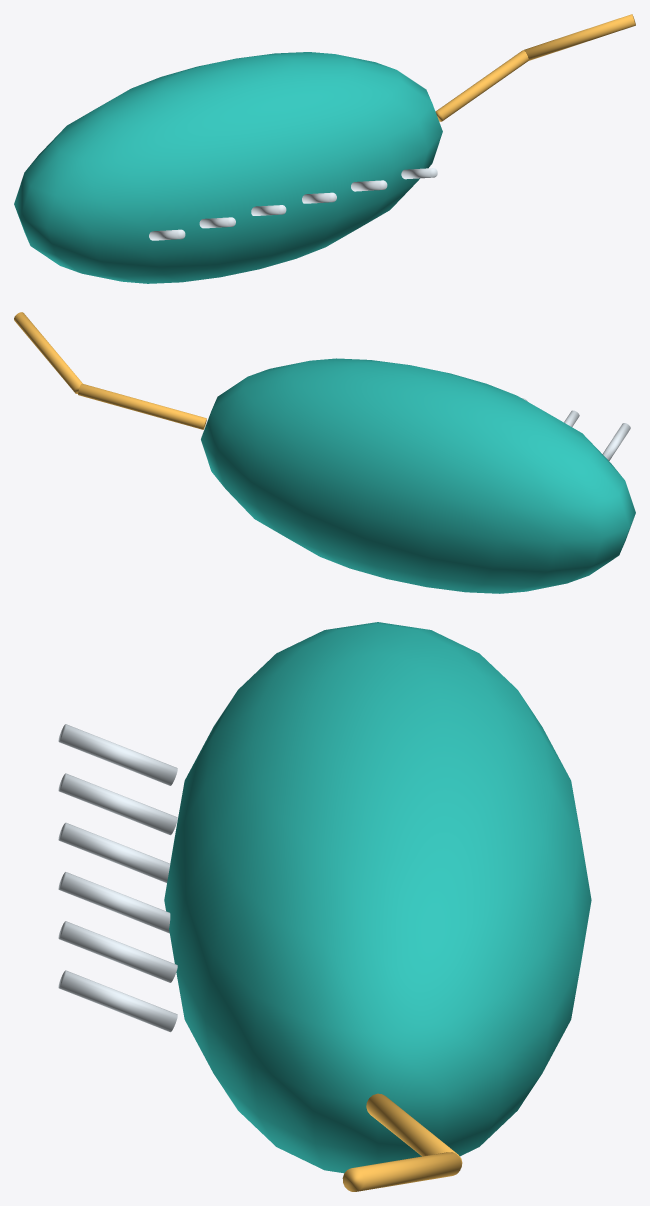
The model's file is bacterium-lite.glb.
3 views of the same model, one above another, from view 1: azimuth 30°, elevation 25°; view 2: azimuth 150°, elevation 25°; view 3: azimuth 270°, elevation 25° (orthographic). The views are drawn at different scales.
Parts seen in each view (by area): view 1: Schematic bacterium; view 2: Schematic bacterium; view 3: Schematic bacterium.
Part boxes in pixels (x1,y1,x2,y2): Schematic bacterium: (14,14,635,283); Schematic bacterium: (14,312,635,593); Schematic bacterium: (58,622,591,1191).
Bounding box in the file's own units: 2.9 × 0.88 × 1.1.
